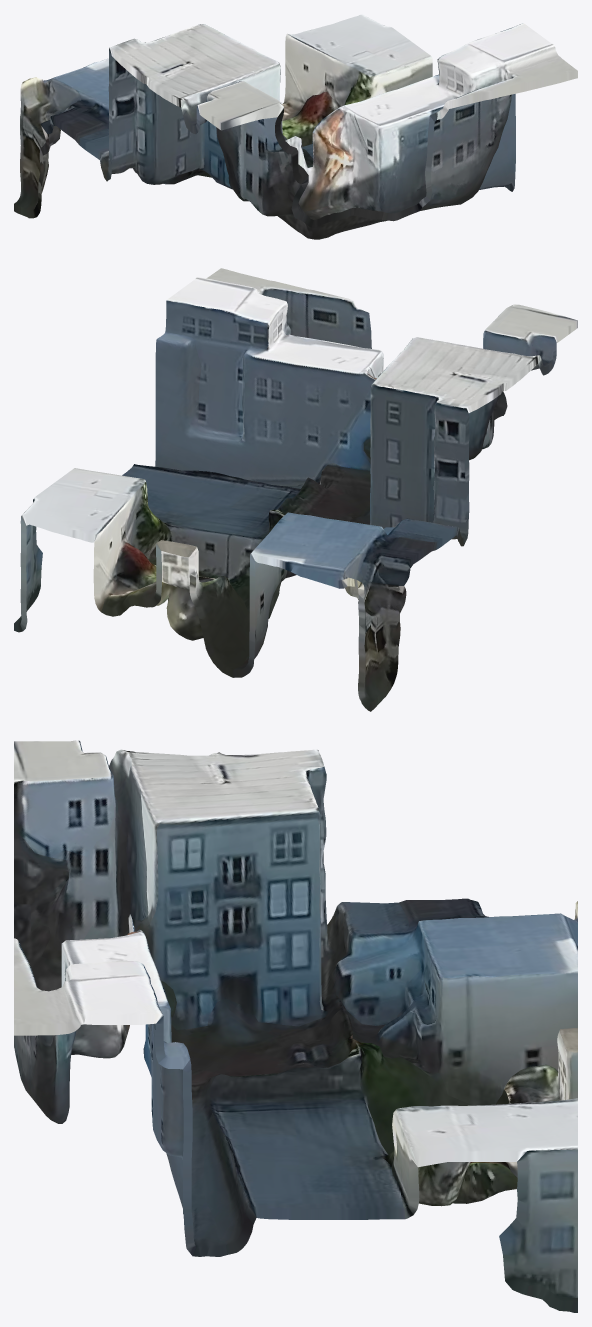
File: z20-167740-405193-h0-yup-uvflip-v3-world.glb
The picture shows the model from 3 angles, top to bottom: view 1: azimuth 30°, elevation 25°; view 2: azimuth 150°, elevation 25°; view 3: azimuth 270°, elevation 25°; orthographic projection. The views are drawn at different scales.
Bounding box in the file's own units: 30.16 × 20.08 × 30.32.
1 material, 1 textured.
